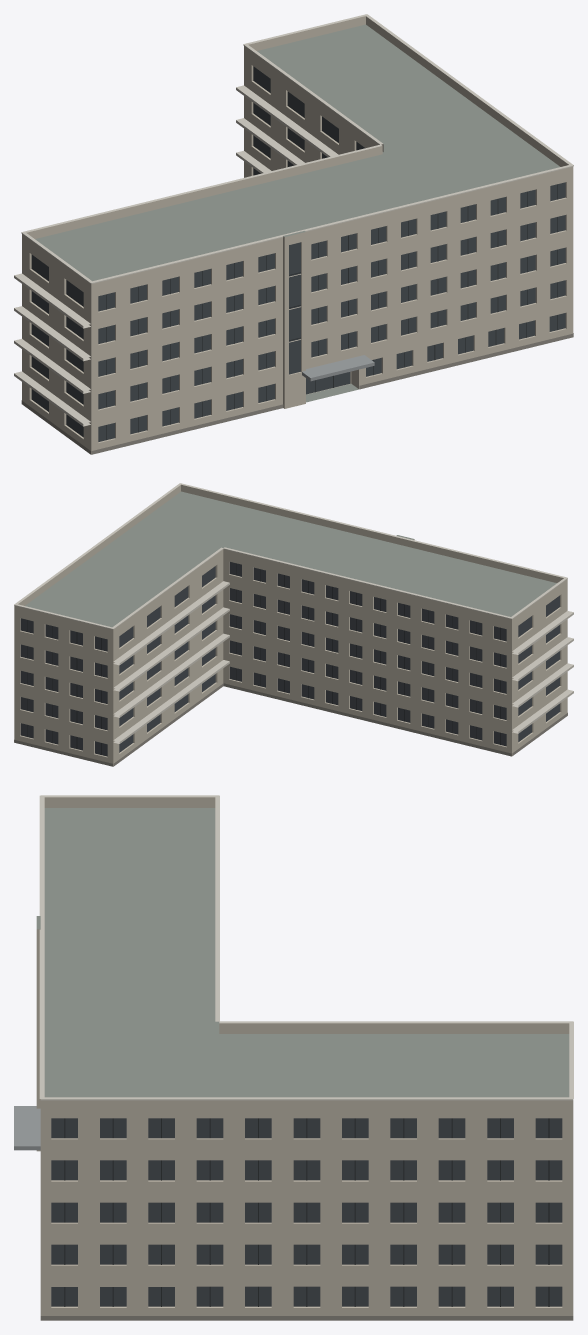
The picture shows the model from 3 angles, top to bottom: view 1: azimuth 30°, elevation 25°; view 2: azimuth 150°, elevation 25°; view 3: azimuth 270°, elevation 25°; orthographic projection. The views are drawn at different scales.
Visible parts, largest first — view 1: culture__wall, culture__roof, culture__glass, culture__parapet, culture__trim, culture__base, culture__frame, culture__canopy; view 2: culture__wall, culture__roof, culture__glass, culture__trim, culture__parapet, culture__base, culture__frame; view 3: culture__wall, culture__roof, culture__glass, culture__parapet, culture__trim, culture__base, culture__frame, culture__canopy.
Part boxes in pixels (x1,y1,x2,y2): culture__wall: [22, 53, 573, 454]; culture__roof: [35, 24, 559, 402]; culture__glass: [31, 66, 565, 441]; culture__parapet: [22, 16, 573, 291]; culture__trim: [14, 14, 573, 426]; culture__base: [21, 333, 573, 454]; culture__frame: [106, 184, 557, 440]; culture__canopy: [302, 355, 374, 381]; culture__wall: [14, 539, 567, 766]; culture__roof: [25, 491, 556, 627]; culture__glass: [20, 562, 559, 756]; culture__trim: [14, 483, 573, 743]; culture__parapet: [14, 484, 567, 635]; culture__base: [14, 683, 567, 766]; culture__frame: [27, 563, 500, 755]; culture__wall: [36, 929, 573, 1315]; culture__roof: [36, 808, 569, 1097]; culture__glass: [51, 1118, 562, 1306]; culture__parapet: [40, 797, 573, 1109]; culture__trim: [39, 795, 573, 1100]; culture__base: [40, 1316, 573, 1320]; culture__frame: [64, 1118, 549, 1306]; culture__canopy: [14, 1106, 40, 1150].
Bounding box in the file's own units: 55.04 × 18.45 × 42.17.
